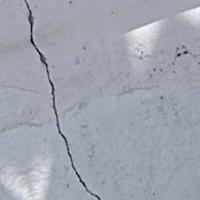crack: (17, 0, 120, 199)
